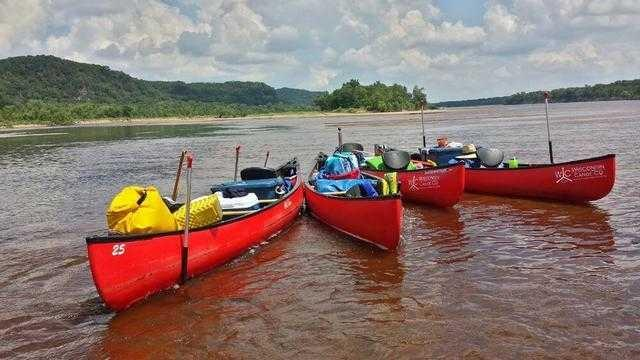kayak: (85, 151, 305, 313), (303, 128, 403, 252), (448, 149, 617, 205), (358, 140, 465, 208)
